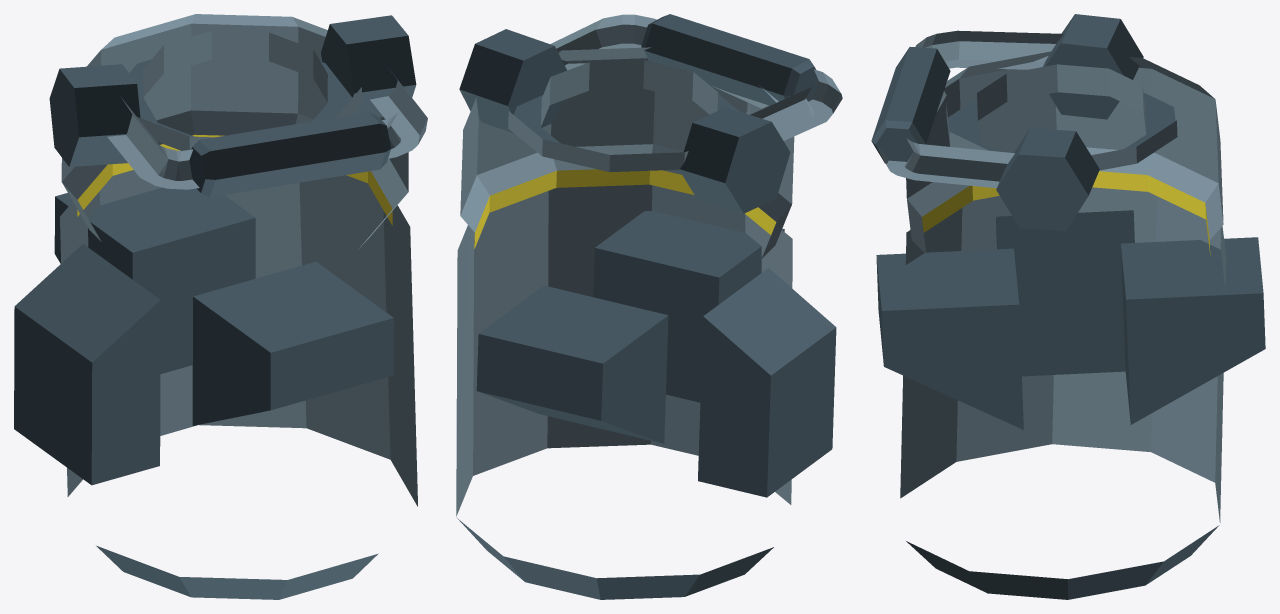
Rendered from Scifi Canister.glb.
3 renders of one model, left to right at view 1: azimuth 30°, elevation 25°; view 2: azimuth 150°, elevation 25°; view 3: azimuth 270°, elevation 25°, orthographic. The views are drawn at different scales.
Visible parts, largest first — view 1: group965971404; view 2: group965971404; view 3: group965971404.
Part boxes in pixels (box(x1,y1,x2,y2)): group965971404: box(14, 14, 427, 599); group965971404: box(456, 14, 842, 599); group965971404: box(871, 14, 1265, 599).
Bounding box in the file's own units: 0.2635 × 0.3565 × 0.2755.
